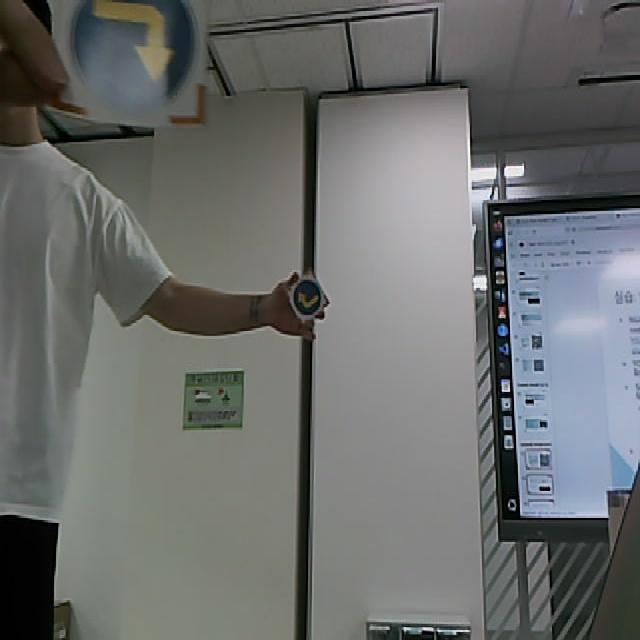right: (41, 1, 206, 127), (285, 265, 330, 324)
